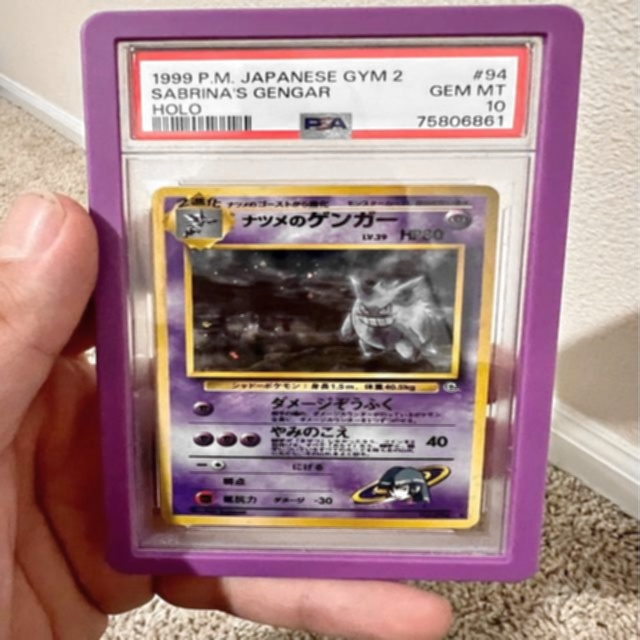card: (149, 183, 502, 529)
